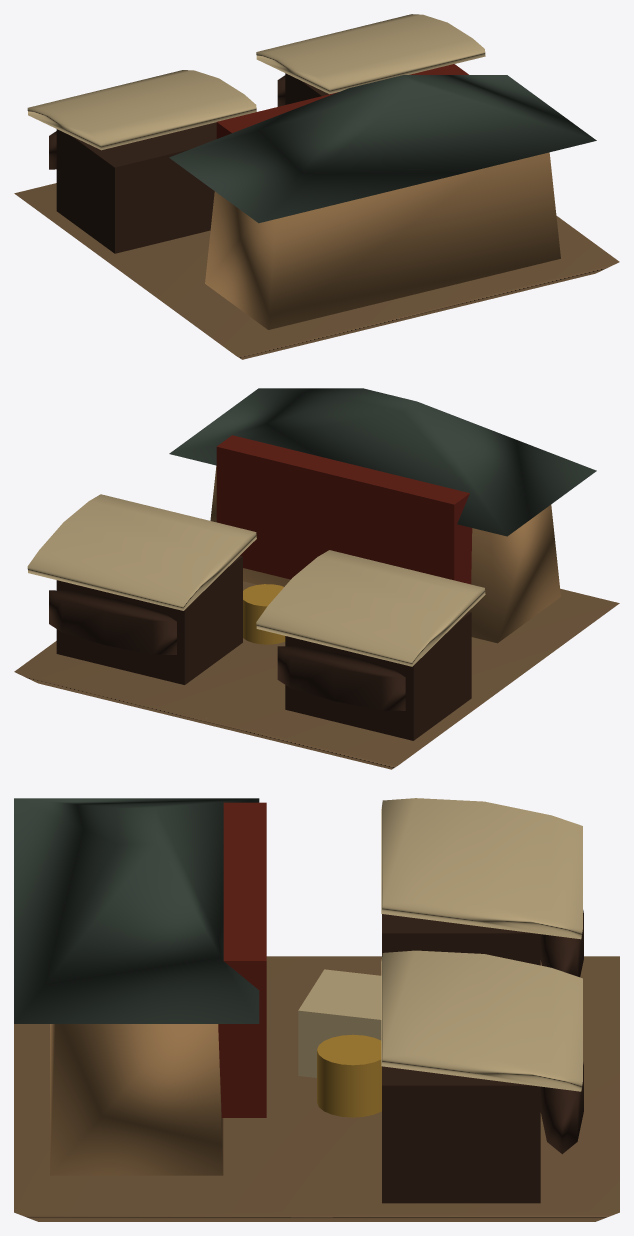
The model's file is R34_HAN_LUOYANG_URBAN_MARKET_SHOPFRONT_A.fbx.
The picture shows the model from 3 angles, top to bottom: view 1: azimuth 30°, elevation 25°; view 2: azimuth 150°, elevation 25°; view 3: azimuth 270°, elevation 25°; orthographic projection. The views are drawn at different scales.
Visible parts, largest first — view 1: hall, hall_roof, yard, stall_e, awning_e, awning_w, hall_front, stall_w; view 2: hall_roof, hall_front, yard, awning_e, awning_w, hall, stall_e, stall_w, counter_e, counter_w, goods_1; view 3: yard, hall_roof, hall, awning_w, awning_e, stall_w, hall_front, goods_2, goods_1, stall_e, counter_w, counter_e.
Boxes of the visible parts, x1=… form: hall: x1=205, y1=152, x2=560, y2=329; hall_roof: x1=169, y1=75, x2=596, y2=223; yard: x1=14, y1=183, x2=619, y2=359; stall_e: x1=56, y1=122, x2=216, y2=253; awning_e: x1=27, y1=70, x2=256, y2=150; awning_w: x1=256, y1=14, x2=485, y2=94; hall_front: x1=216, y1=64, x2=468, y2=138; stall_w: x1=285, y1=73, x2=328, y2=104; hall_roof: x1=169, y1=388, x2=596, y2=536; hall_front: x1=216, y1=435, x2=472, y2=584; yard: x1=14, y1=581, x2=619, y2=769; awning_e: x1=256, y1=550, x2=485, y2=666; awning_w: x1=27, y1=494, x2=256, y2=610; hall: x1=210, y1=466, x2=560, y2=643; stall_e: x1=285, y1=611, x2=471, y2=740; stall_w: x1=56, y1=556, x2=242, y2=684; counter_e: x1=277, y1=646, x2=405, y2=710; counter_w: x1=49, y1=590, x2=176, y2=654; goods_1: x1=243, y1=584, x2=285, y2=644; yard: x1=14, y1=956, x2=619, y2=1221; hall_roof: x1=14, y1=798, x2=259, y2=1023; hall: x1=50, y1=1024, x2=223, y2=1175; awning_w: x1=381, y1=950, x2=582, y2=1091; awning_e: x1=381, y1=798, x2=582, y2=939; stall_w: x1=382, y1=1066, x2=540, y2=1203; hall_front: x1=218, y1=802, x2=266, y2=1117; goods_2: x1=298, y1=969, x2=381, y2=1077; goods_1: x1=317, y1=1034, x2=381, y2=1117; stall_e: x1=382, y1=914, x2=540, y2=965; counter_w: x1=540, y1=1062, x2=583, y2=1154; counter_e: x1=540, y1=910, x2=583, y2=977.
Size of the model in its own units: 84 by 42.5 by 84.
